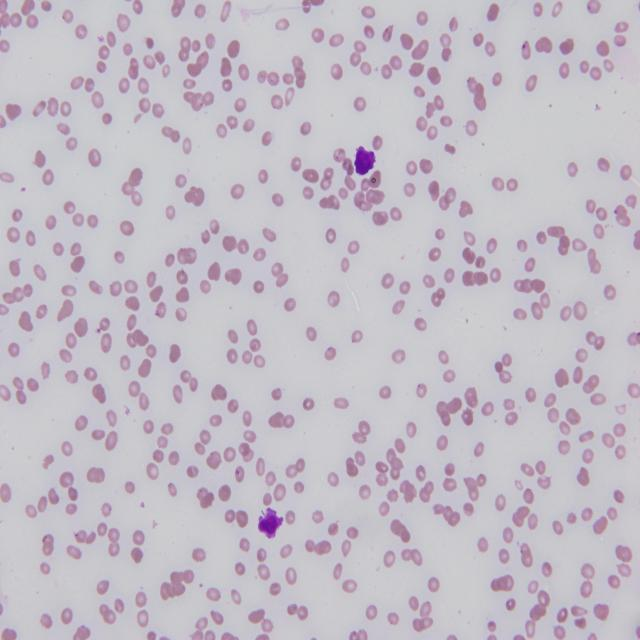cell: (258, 508, 284, 539), (354, 147, 375, 175)
